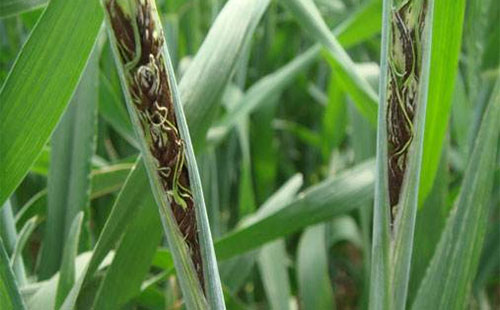Wheat Loose Smut: (118, 12, 219, 271)
